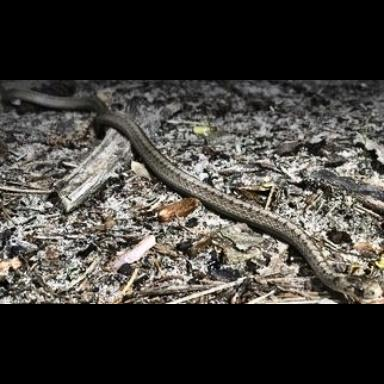snake: (4, 88, 384, 300)
